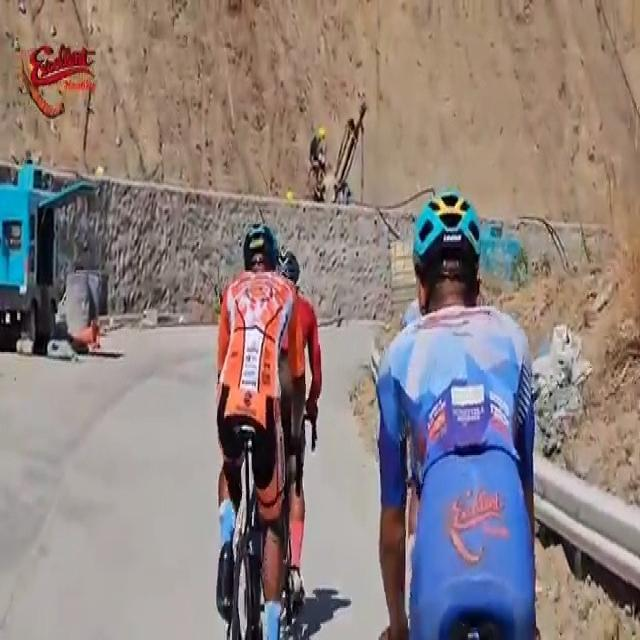bike: (366, 185, 543, 640), (213, 220, 294, 640)
